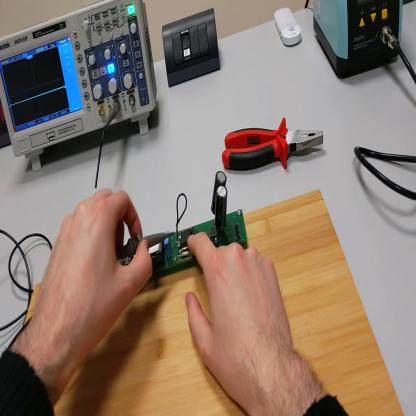hand: (31, 184, 154, 376), (185, 229, 297, 405)
high voltage board: (118, 172, 248, 278)
oscilloscope: (2, 3, 159, 175)
oscilloscope probe tip: (118, 229, 174, 262)
pliers: (222, 112, 328, 172)
welder station: (313, 2, 404, 84)
working area: (29, 192, 405, 415)
